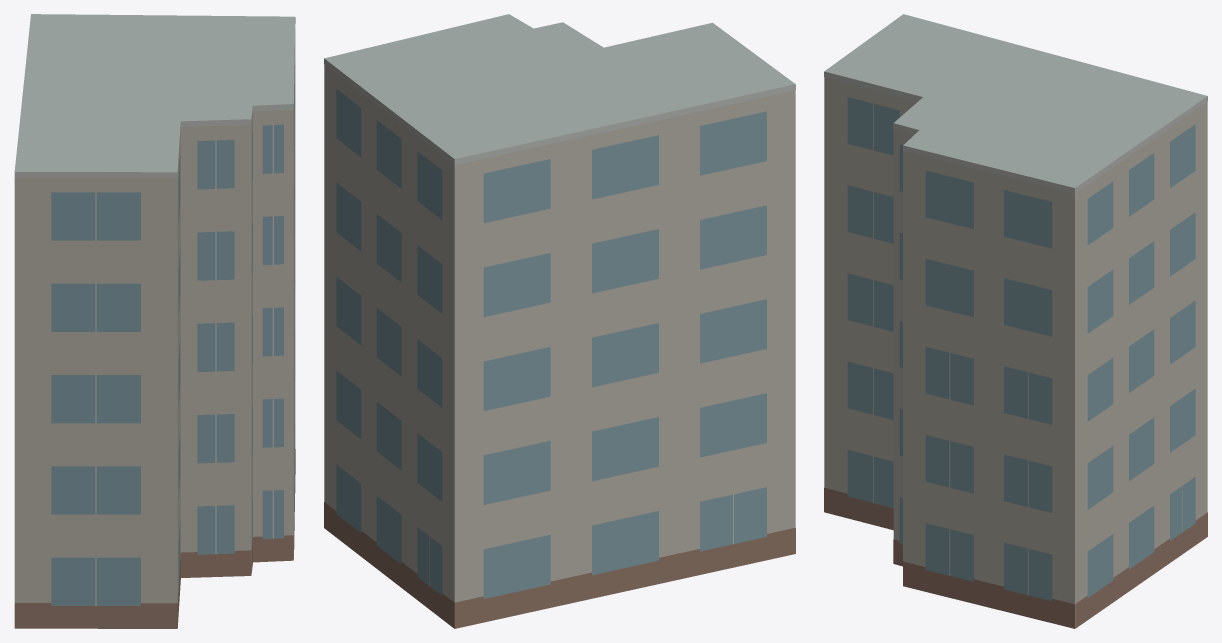
The model's file is survey-upis-32634138.glb.
3 renders of one model, left to right at view 1: azimuth 30°, elevation 25°; view 2: azimuth 150°, elevation 25°; view 3: azimuth 270°, elevation 25°, orthographic. The views are drawn at different scales.
Parts seen in each view (by area): view 1: survey-upis-32634138.tmp; view 2: survey-upis-32634138.tmp; view 3: survey-upis-32634138.tmp.
Part boxes in pixels (left/top/right/bottom): survey-upis-32634138.tmp: left=14, top=14, right=295, bottom=628; survey-upis-32634138.tmp: left=324, top=14, right=795, bottom=628; survey-upis-32634138.tmp: left=824, top=14, right=1207, bottom=628.
Size of the model in its own units: 16.27 by 19.2 by 15.15.
